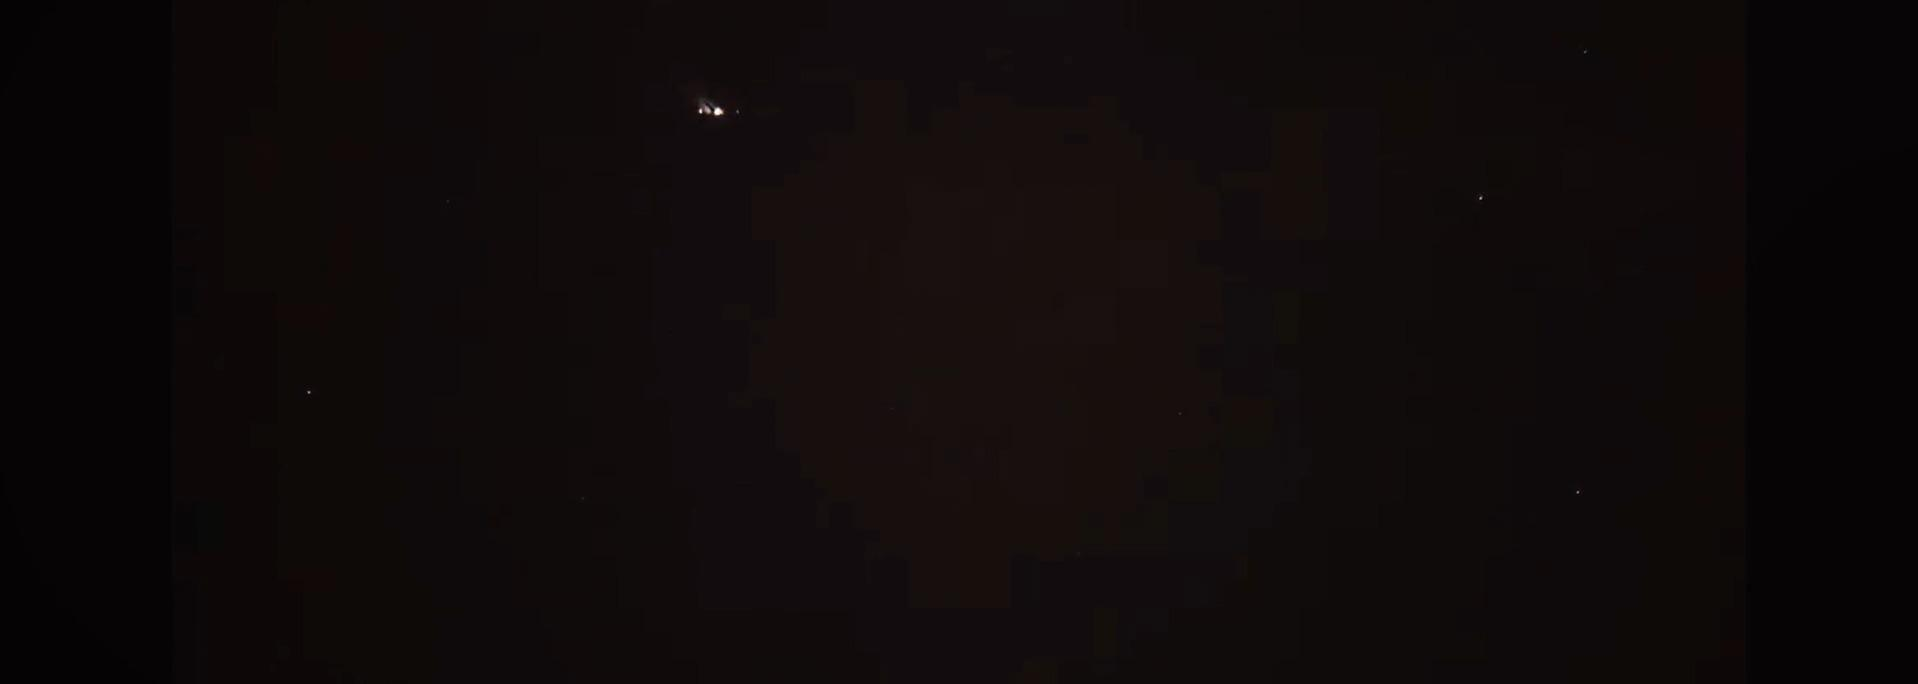Plane: (650, 88, 773, 130)
